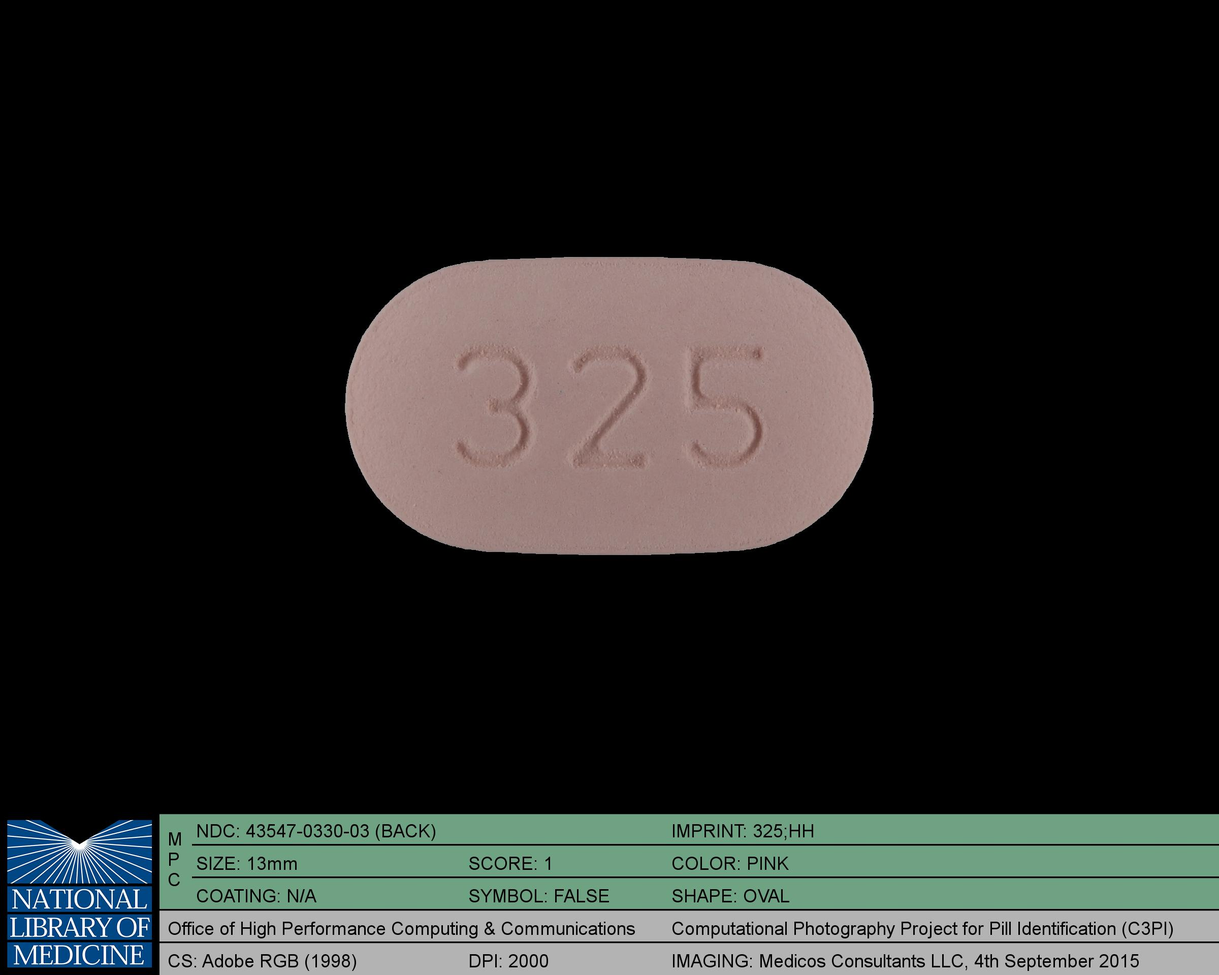Pill: (332, 245, 887, 567)
